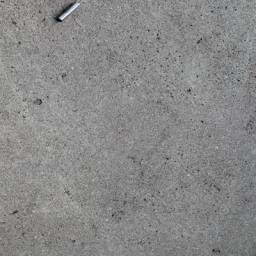FOD: (53, 2, 86, 24)
